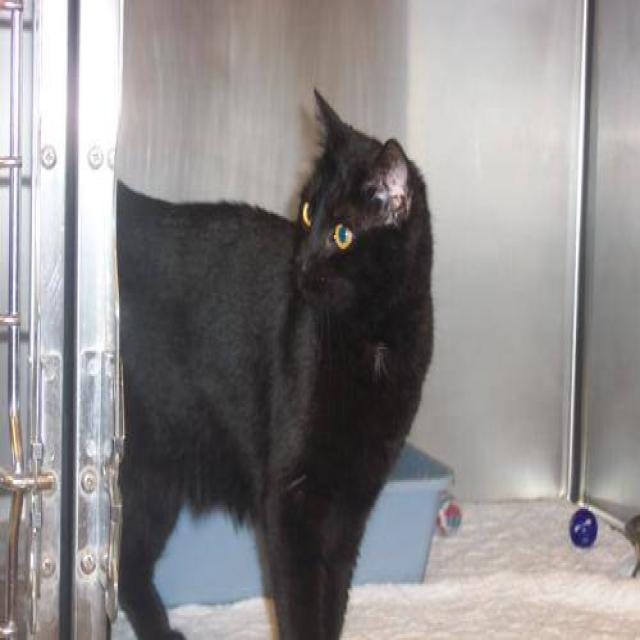cat: (114, 85, 434, 638)
